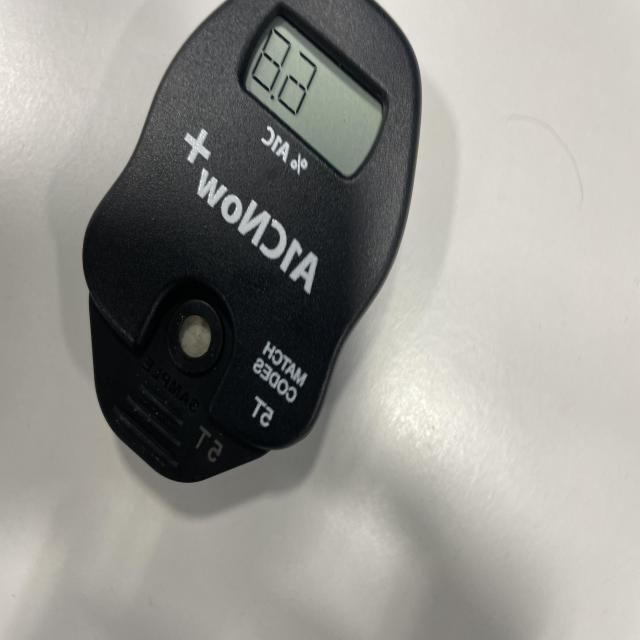hba1c: (82, 0, 423, 487)
